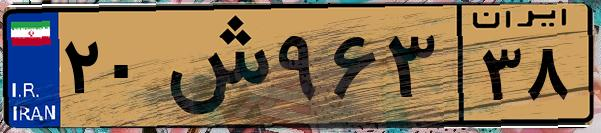0: (110, 28, 158, 98)
2: (57, 26, 110, 100)
3: (385, 28, 445, 110), (475, 38, 525, 113)
6: (330, 28, 385, 110)
8: (525, 38, 570, 115)
9: (270, 28, 330, 110)
ش: (158, 12, 270, 120)
